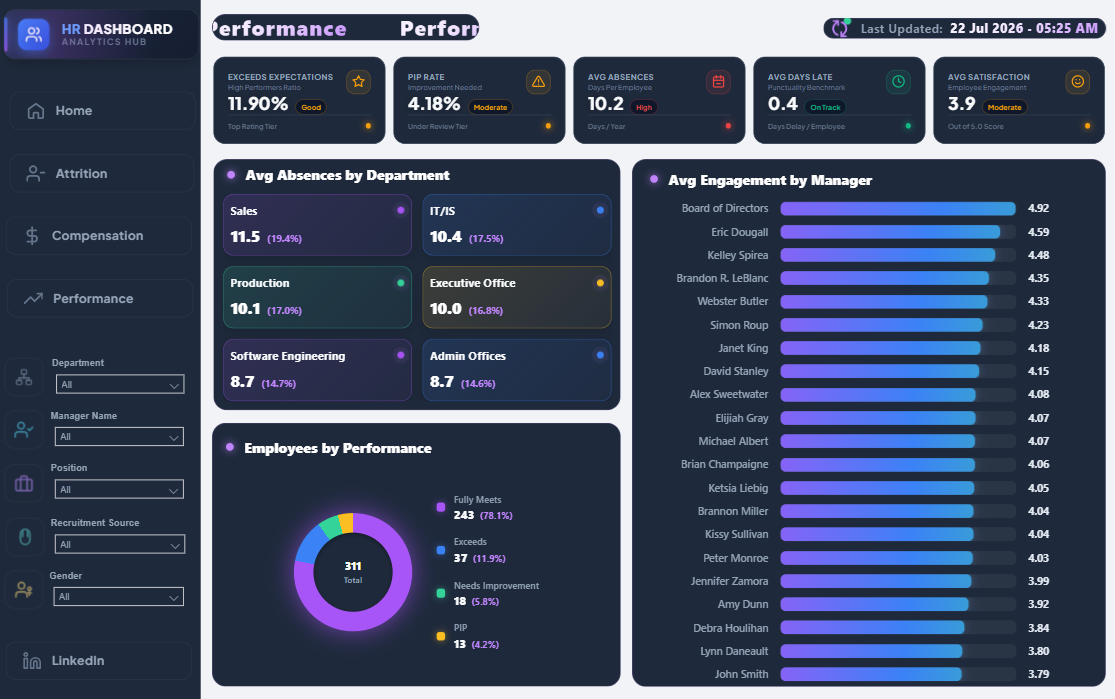

The page's visual inventory and layout, read from the dashboard file:
{"tool":"powerbi","page":{"name":"Performance","canvas":[1280,800],"ordinal":3},"visuals":[{"type":"htmlContent443BE3AD55E043BF878BED274D3A6855","fields":{"content":["HTML Measures.Card_Exceeds_Rate_Dark"]},"box":[246.7,66.3,196.7,101.1],"z":0},{"type":"htmlContent443BE3AD55E043BF878BED274D3A6855","fields":{"content":["HTML Measures.Card_PIP_Rate_Dark"]},"box":[452.5,66.3,196.7,101.1],"z":1000},{"type":"htmlContent443BE3AD55E043BF878BED274D3A6855","fields":{"content":["HTML Measures.Card_Avg_Absences_Dark"]},"box":[658.3,66.3,196.7,101.1],"z":2000},{"type":"htmlContent443BE3AD55E043BF878BED274D3A6855","fields":{"content":["HTML Measures.Card_Avg_Days_Late_Dark"]},"box":[864.2,66.3,196.7,101.1],"z":3000},{"type":"htmlContent443BE3AD55E043BF878BED274D3A6855","fields":{"content":["HTML Measures.Card_Avg_Satisfaction_Dark"]},"box":[1070,66.2,195.7,101.4],"z":4000},{"type":"shape","box":[0,0,232.9,800],"z":5000},{"type":"group","id":"g1","title":"Group 1","box":[9,409.4,210,45.3],"z":6000},{"type":"slicer","title":"Manager Name","fields":{"Values":["HR Data.ManagerName"]},"box":[61.7,469.5,157.3,45],"z":6000,"group":"g2"},{"type":"group","id":"g2","title":"Group 2","box":[8.4,469.5,210.7,45.3],"z":7000},{"type":"slicer","title":"Position","fields":{"Values":["HR Data.Position"]},"box":[61.7,529.9,156.7,45],"z":7000,"group":"g3"},{"type":"group","id":"g3","title":"Group 3","box":[9,529.9,209.3,47.3],"z":8000},{"type":"slicer","title":"Recruitment Source","fields":{"Values":["HR Data.RecruitmentSource"]},"box":[61.7,592.4,158.7,45],"z":8000,"group":"g4"},{"type":"group","id":"g4","title":"Group 4","box":[9.7,592.4,210.7,45.3],"z":9000},{"type":"slicer","title":"Gender","fields":{"Values":["HR Data.Sex"]},"box":[60.6,652.8,158.3,45.6],"z":9000,"group":"g5"},{"type":"group","id":"g5","title":"Group 5","box":[8.5,652.8,210.6,45.6],"z":10000},{"type":"group","id":"g6","title":"Group 6","box":[13.9,105.4,212.9,64.3],"z":11000},{"type":"htmlContent443BE3AD55E043BF878BED274D3A6855","fields":{"content":["HTML Measures.Nav_Button_Premium_Dark"]},"box":[13.9,105.4,212.9,64.3],"z":12000,"group":"g6"},{"type":"group","id":"g7","title":"Group 7","box":[13.9,177.3,212.5,64.3],"z":12000},{"type":"htmlContent443BE3AD55E043BF878BED274D3A6855","fields":{"content":["HTML Measures.Btn_Attrition_Standalone"]},"box":[13.9,177.3,211.4,64.3],"z":13000,"group":"g7"},{"type":"group","id":"g8","title":"Group 8","box":[9.6,248.9,212.9,63.2],"z":13000},{"type":"htmlContent443BE3AD55E043BF878BED274D3A6855","fields":{"content":["HTML Measures.Btn_Compensation_Standalone"]},"box":[9.6,249.2,212.9,62.9],"z":14000,"group":"g8"},{"type":"group","id":"g9","title":"Group 9","box":[11.1,319.6,212.9,64.4],"z":14000},{"type":"htmlContent443BE3AD55E043BF878BED274D3A6855","fields":{"content":["HTML Measures.Btn_HR_Dashboard_Standalone"]},"box":[6.7,12.1,223.9,79.1],"z":15000},{"type":"htmlContent443BE3AD55E043BF878BED274D3A6855","fields":{"content":["HTML Measures.Btn_Performance_Standalone"]},"box":[11.1,319.7,212.9,64.3],"z":15000,"group":"g9"},{"type":"htmlContent443BE3AD55E043BF878BED274D3A6855","fields":{"content":["HTML Measures.Title_Performance_Animated"]},"box":[245.7,17.1,305.7,35.7],"z":16000},{"type":"htmlContent443BE3AD55E043BF878BED274D3A6855","fields":{"content":["HTML Measures.Employees_by_Performance_DonutChart"]},"box":[245.7,484.3,467.1,301.4],"z":17000},{"type":"htmlContent443BE3AD55E043BF878BED274D3A6855","fields":{"content":["HTML Measures.AvgEngagement_by_Manager_BarChart"]},"box":[725.7,182.9,541.4,602.9],"z":18000},{"type":"htmlContent443BE3AD55E043BF878BED274D3A6855","fields":{"content":["HTML Measures.AvgAbsences_by_Department_TreeMap"]},"box":[247.1,182.9,465.7,287.1],"z":19000},{"type":"htmlContent443BE3AD55E043BF878BED274D3A6855","fields":{"content":["HTML Measures.Slicer_Department_Card"]},"box":[9,409.4,44.7,45.3],"z":19000,"group":"g1"},{"type":"htmlContent443BE3AD55E043BF878BED274D3A6855","fields":{"content":["HTML Measures.Last_Refresh_Date_Animated"]},"box":[944.3,21.4,322.9,25.7],"z":20000},{"type":"slicer","title":"Department","fields":{"Values":["HR Data.Department"]},"box":[63,409.4,156,45],"z":21000,"group":"g1"},{"type":"htmlContent443BE3AD55E043BF878BED274D3A6855","fields":{"content":["HTML Measures.Btn_LinkedIn_Standalone"]},"box":[9.4,734.6,213.1,50.9],"z":21000},{"type":"actionButton","box":[58.2,105.7,164.3,43.6],"z":21002,"group":"g6"},{"type":"actionButton","box":[61.7,177.6,164.7,44],"z":21003,"group":"g7"},{"type":"actionButton","box":[57.7,248.9,164.7,44],"z":21004,"group":"g8"},{"type":"actionButton","box":[59.1,319.6,164.7,44],"z":21005,"group":"g9"},{"type":"htmlContent443BE3AD55E043BF878BED274D3A6855","fields":{"content":["HTML Measures.Slicer_Manager_Icon_Only"]},"box":[8.4,469.5,44.7,45.3],"z":22000,"group":"g2"},{"type":"actionButton","box":[57.1,734.3,164.3,41.4],"z":22000},{"type":"htmlContent443BE3AD55E043BF878BED274D3A6855","fields":{"content":["HTML Measures.Slicer_Gender_Icon_Only"]},"box":[8.5,652.8,44.7,45.3],"z":22004,"group":"g5"},{"type":"htmlContent443BE3AD55E043BF878BED274D3A6855","fields":{"content":["HTML Measures.Slicer_Position_Icon_Only"]},"box":[9,531.9,44.7,45.3],"z":23000,"group":"g3"},{"type":"htmlContent443BE3AD55E043BF878BED274D3A6855","fields":{"content":["HTML Measures.Slicer_RecruitmentSource_Icon_Only"]},"box":[9.7,592.4,44.7,45.3],"z":24000,"group":"g4"}]}

Visuals, with their boxes on the page's 1280x800 design canvas (x1, y1, x2, y2). These are canvas units, not pixel positions in the 1115x699 screenshot, which may show the page scaled, cropped or inside an application window:
htmlContent443BE3AD55E043BF878BED274D3A6855 - HTML Measures.Card_Exceeds_Rate_Dark: 247,66,443,167
htmlContent443BE3AD55E043BF878BED274D3A6855 - HTML Measures.Card_PIP_Rate_Dark: 452,66,649,167
htmlContent443BE3AD55E043BF878BED274D3A6855 - HTML Measures.Card_Avg_Absences_Dark: 658,66,855,167
htmlContent443BE3AD55E043BF878BED274D3A6855 - HTML Measures.Card_Avg_Days_Late_Dark: 864,66,1061,167
htmlContent443BE3AD55E043BF878BED274D3A6855 - HTML Measures.Card_Avg_Satisfaction_Dark: 1070,66,1266,168
shape: 0,0,233,800
"Group 1" group: 9,409,219,455
"Manager Name" slicer: 62,470,219,514
"Group 2" group: 8,470,219,515
"Position" slicer: 62,530,218,575
"Group 3" group: 9,530,218,577
"Recruitment Source" slicer: 62,592,220,637
"Group 4" group: 10,592,220,638
"Gender" slicer: 61,653,219,698
"Group 5" group: 8,653,219,698
"Group 6" group: 14,105,227,170
htmlContent443BE3AD55E043BF878BED274D3A6855 - HTML Measures.Nav_Button_Premium_Dark: 14,105,227,170
"Group 7" group: 14,177,226,242
htmlContent443BE3AD55E043BF878BED274D3A6855 - HTML Measures.Btn_Attrition_Standalone: 14,177,225,242
"Group 8" group: 10,249,222,312
htmlContent443BE3AD55E043BF878BED274D3A6855 - HTML Measures.Btn_Compensation_Standalone: 10,249,222,312
"Group 9" group: 11,320,224,384
htmlContent443BE3AD55E043BF878BED274D3A6855 - HTML Measures.Btn_HR_Dashboard_Standalone: 7,12,231,91
htmlContent443BE3AD55E043BF878BED274D3A6855 - HTML Measures.Btn_Performance_Standalone: 11,320,224,384
htmlContent443BE3AD55E043BF878BED274D3A6855 - HTML Measures.Title_Performance_Animated: 246,17,551,53
htmlContent443BE3AD55E043BF878BED274D3A6855 - HTML Measures.Employees_by_Performance_DonutChart: 246,484,713,786
htmlContent443BE3AD55E043BF878BED274D3A6855 - HTML Measures.AvgEngagement_by_Manager_BarChart: 726,183,1267,786
htmlContent443BE3AD55E043BF878BED274D3A6855 - HTML Measures.AvgAbsences_by_Department_TreeMap: 247,183,713,470
htmlContent443BE3AD55E043BF878BED274D3A6855 - HTML Measures.Slicer_Department_Card: 9,409,54,455
htmlContent443BE3AD55E043BF878BED274D3A6855 - HTML Measures.Last_Refresh_Date_Animated: 944,21,1267,47
"Department" slicer: 63,409,219,454
htmlContent443BE3AD55E043BF878BED274D3A6855 - HTML Measures.Btn_LinkedIn_Standalone: 9,735,222,786
actionButton: 58,106,222,149
actionButton: 62,178,226,222
actionButton: 58,249,222,293
actionButton: 59,320,224,364
htmlContent443BE3AD55E043BF878BED274D3A6855 - HTML Measures.Slicer_Manager_Icon_Only: 8,470,53,515
actionButton: 57,734,221,776
htmlContent443BE3AD55E043BF878BED274D3A6855 - HTML Measures.Slicer_Gender_Icon_Only: 8,653,53,698
htmlContent443BE3AD55E043BF878BED274D3A6855 - HTML Measures.Slicer_Position_Icon_Only: 9,532,54,577
htmlContent443BE3AD55E043BF878BED274D3A6855 - HTML Measures.Slicer_RecruitmentSource_Icon_Only: 10,592,54,638
